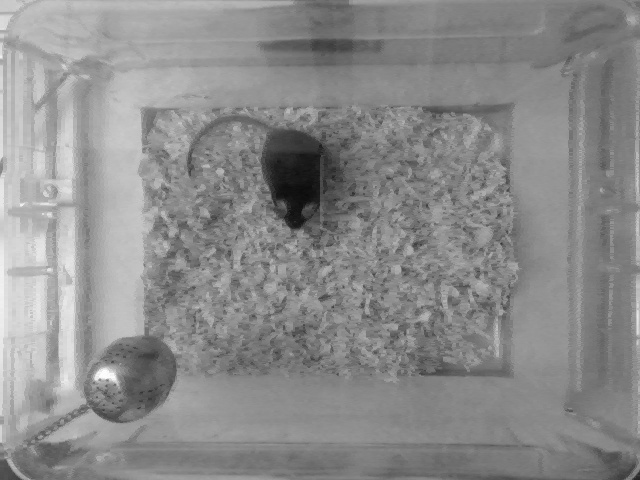mice: (190, 113, 335, 233)
